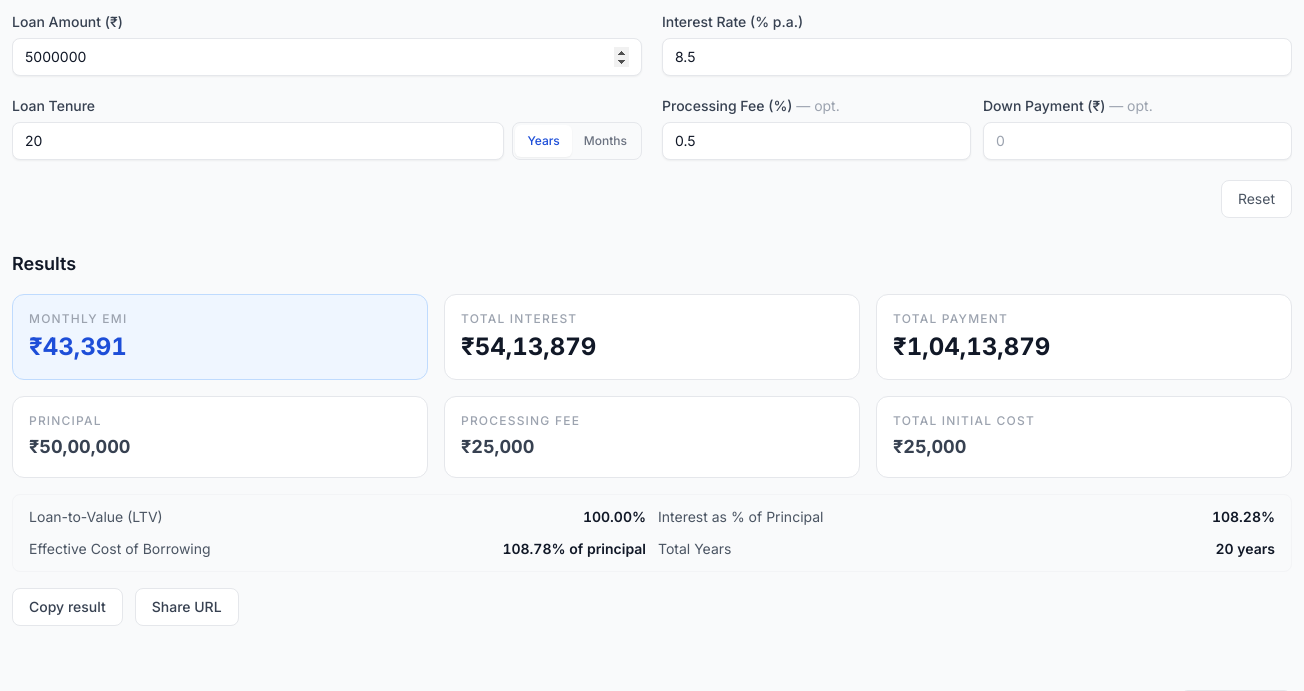
Test: HomeLoanCalculator › adding a down payment lowers LTV below 100%
Type "5000000" into the number field labelled "Down Payment (₹) — opt." at (1138, 141), box [983,122,1292,160]
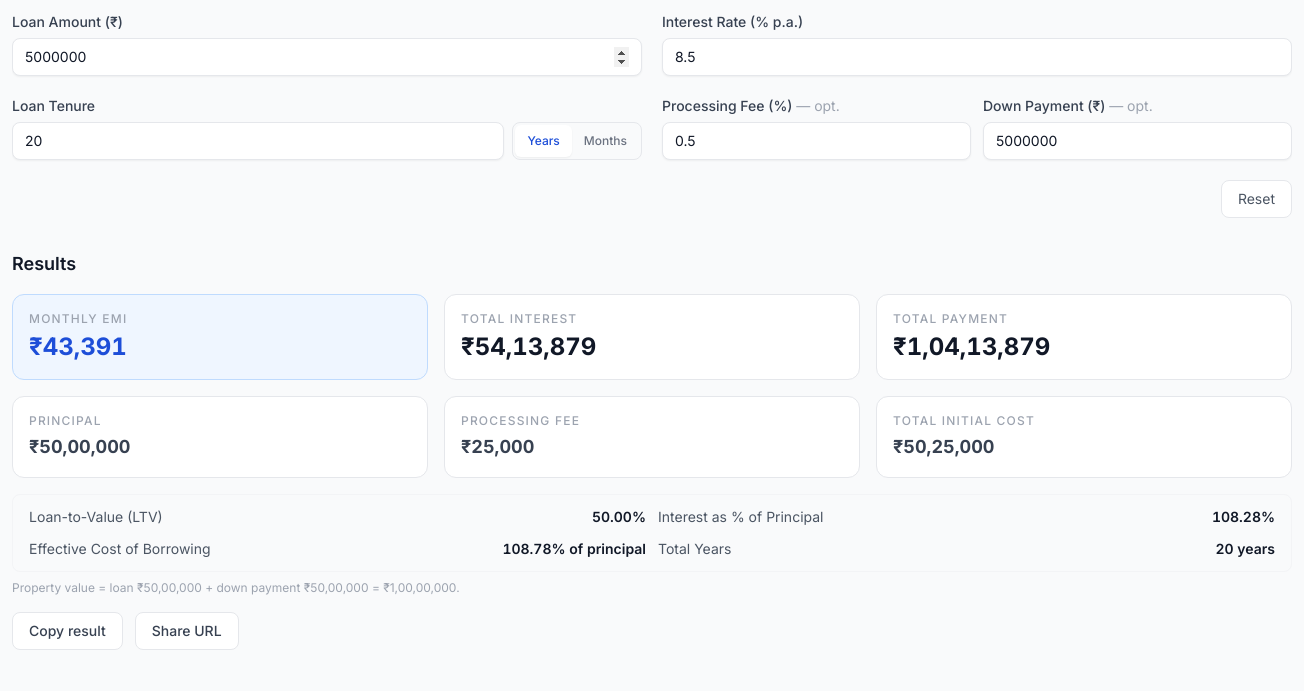
Now the text "50.00%" is shown, box [592,507,646,527]
